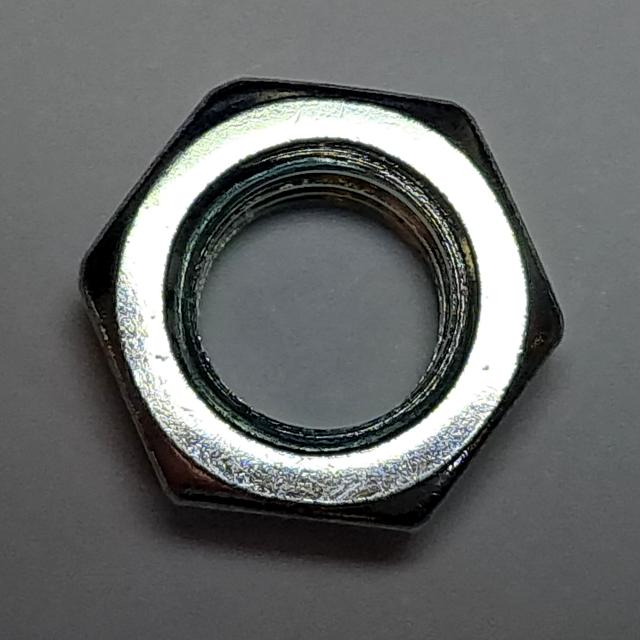Excellent: (59, 55, 583, 548)
